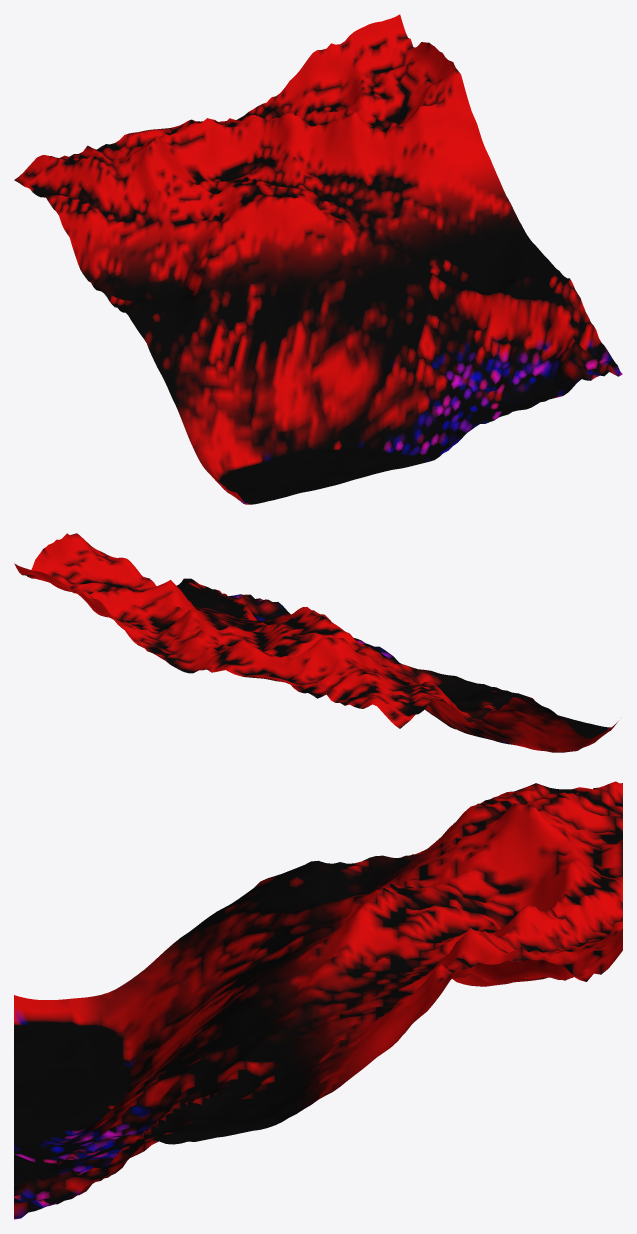
Rendered from SM_AsirMountains_Terrain_3_3.fbx.
The picture shows the model from 3 angles, top to bottom: view 1: azimuth 30°, elevation 25°; view 2: azimuth 150°, elevation 25°; view 3: azimuth 270°, elevation 25°; orthographic projection. The views are drawn at different scales.
Parts seen in each view (by area): view 1: SM_AsirMountains_Terrain_3_3; view 2: SM_AsirMountains_Terrain_3_3; view 3: SM_AsirMountains_Terrain_3_3.
Boxes of the visible parts, x1,y1,x2,y2 form: SM_AsirMountains_Terrain_3_3: [14, 14, 622, 504]; SM_AsirMountains_Terrain_3_3: [14, 533, 617, 752]; SM_AsirMountains_Terrain_3_3: [14, 781, 622, 1219].
Size of the model in its own units: 50400 by 29742 by 50400.
